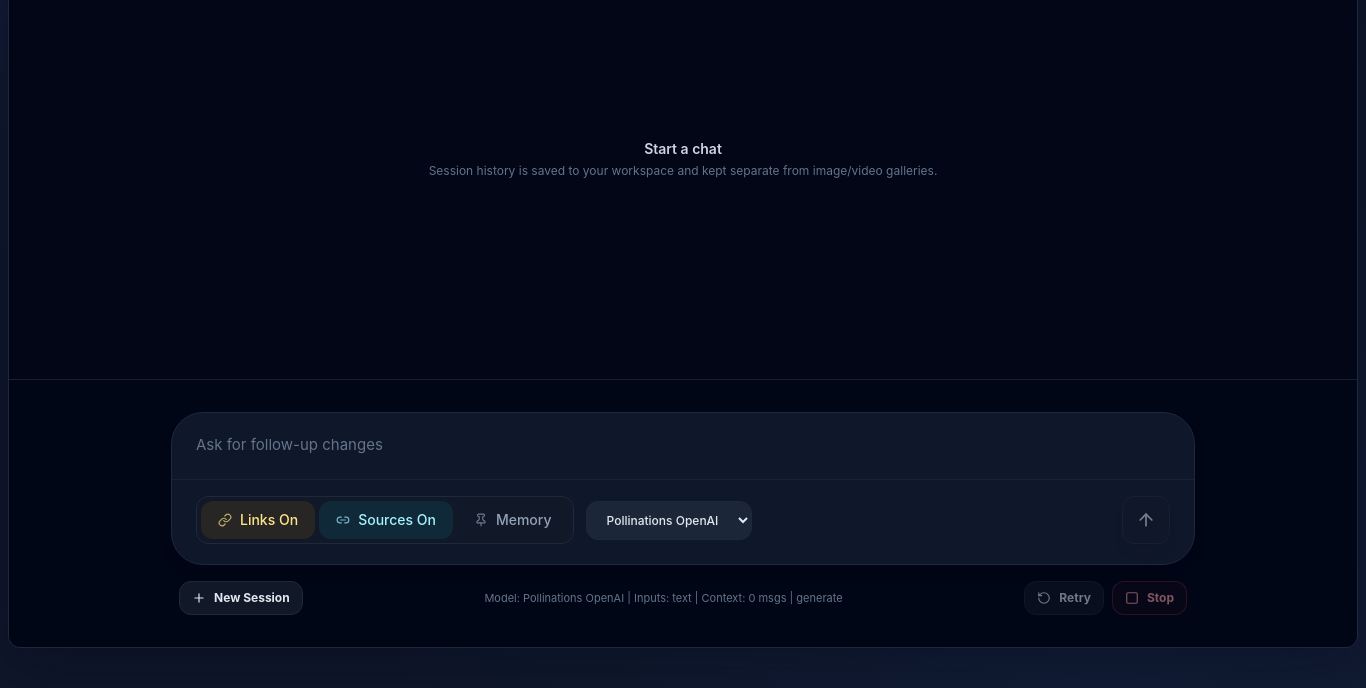
Test: AIChat formatted-response regressions › handles event-stream done packets that carry final content without deltas
The width and height of the screenshot is (1366, 688).
(page scrolled)
Type "Stream final-only response" into the text box with placeholder "Ask for follow-up changes" at (683, 443), box [172, 413, 1194, 473]
Then press Enter
(page scrolled)
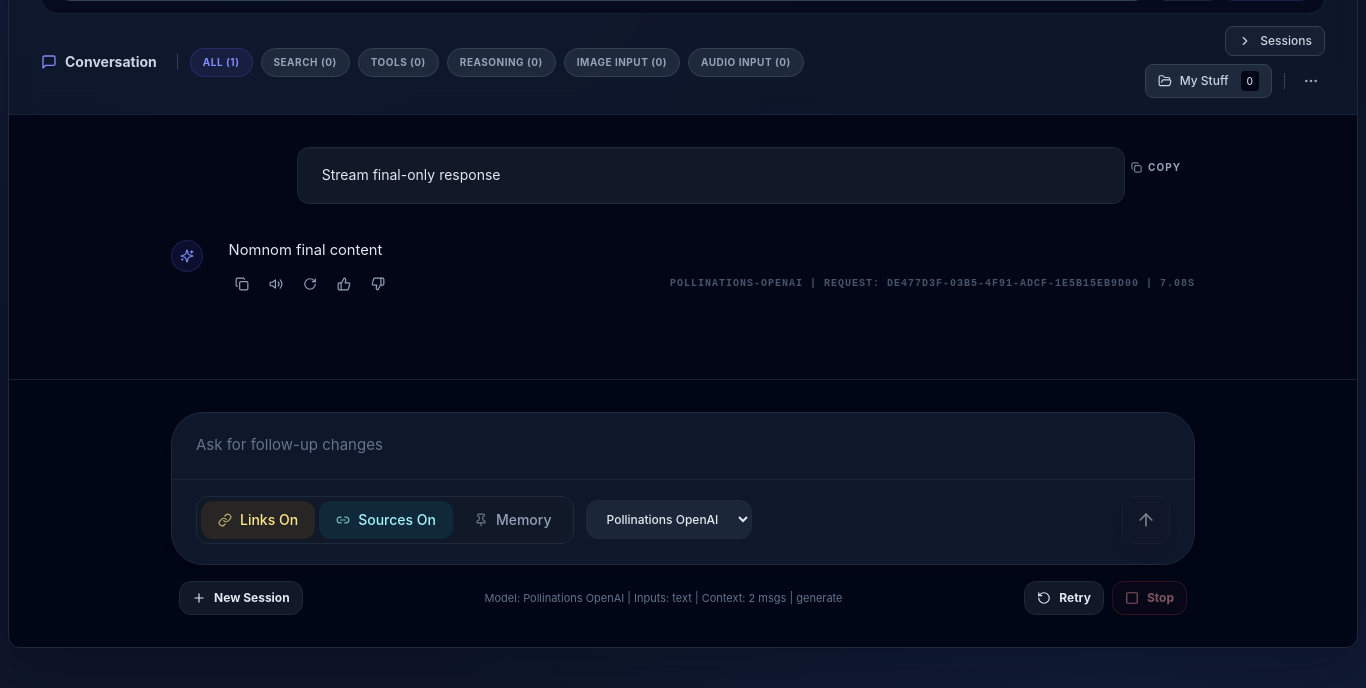
Result: the text "Nomnom final content" is shown at [229, 241, 382, 259]
Result: the text "request: de477d3f-03b5-4f91-adcf-1e5b15eb9d00" is shown at [803, 278, 1139, 289]
